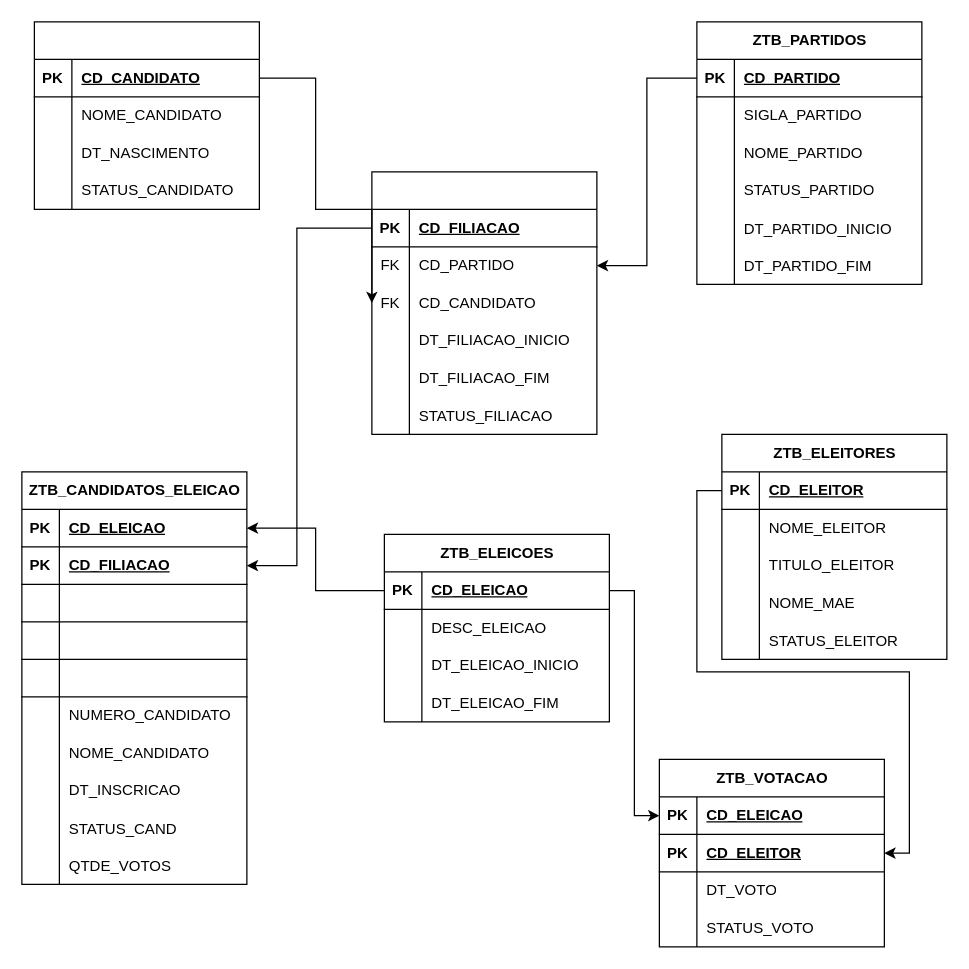
This 969x969 diagram has some shape labels left out. The shapes that lost their labels are listed below. From the top down, each one's box as (x1, y1, x2, y2) in pixels, then its label:
(33, 21, 259, 209): ZTB_CANDIDATOS
(371, 171, 597, 434): ZTB_FILIACAO
